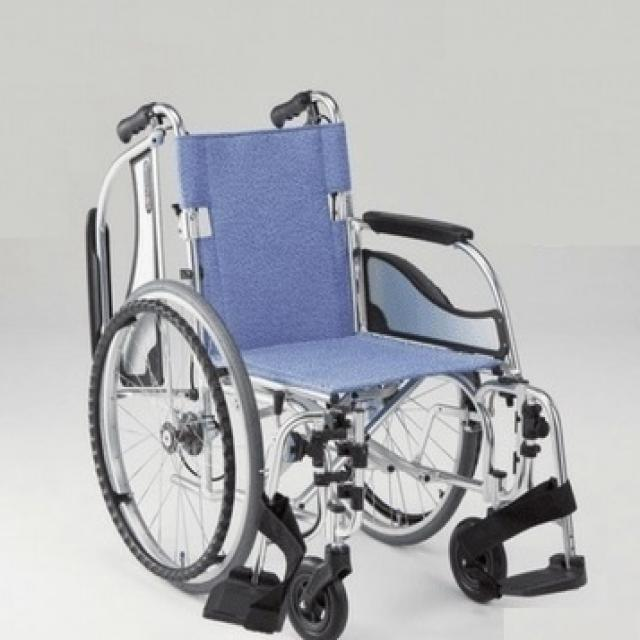wheelchair: (78, 81, 612, 640)
